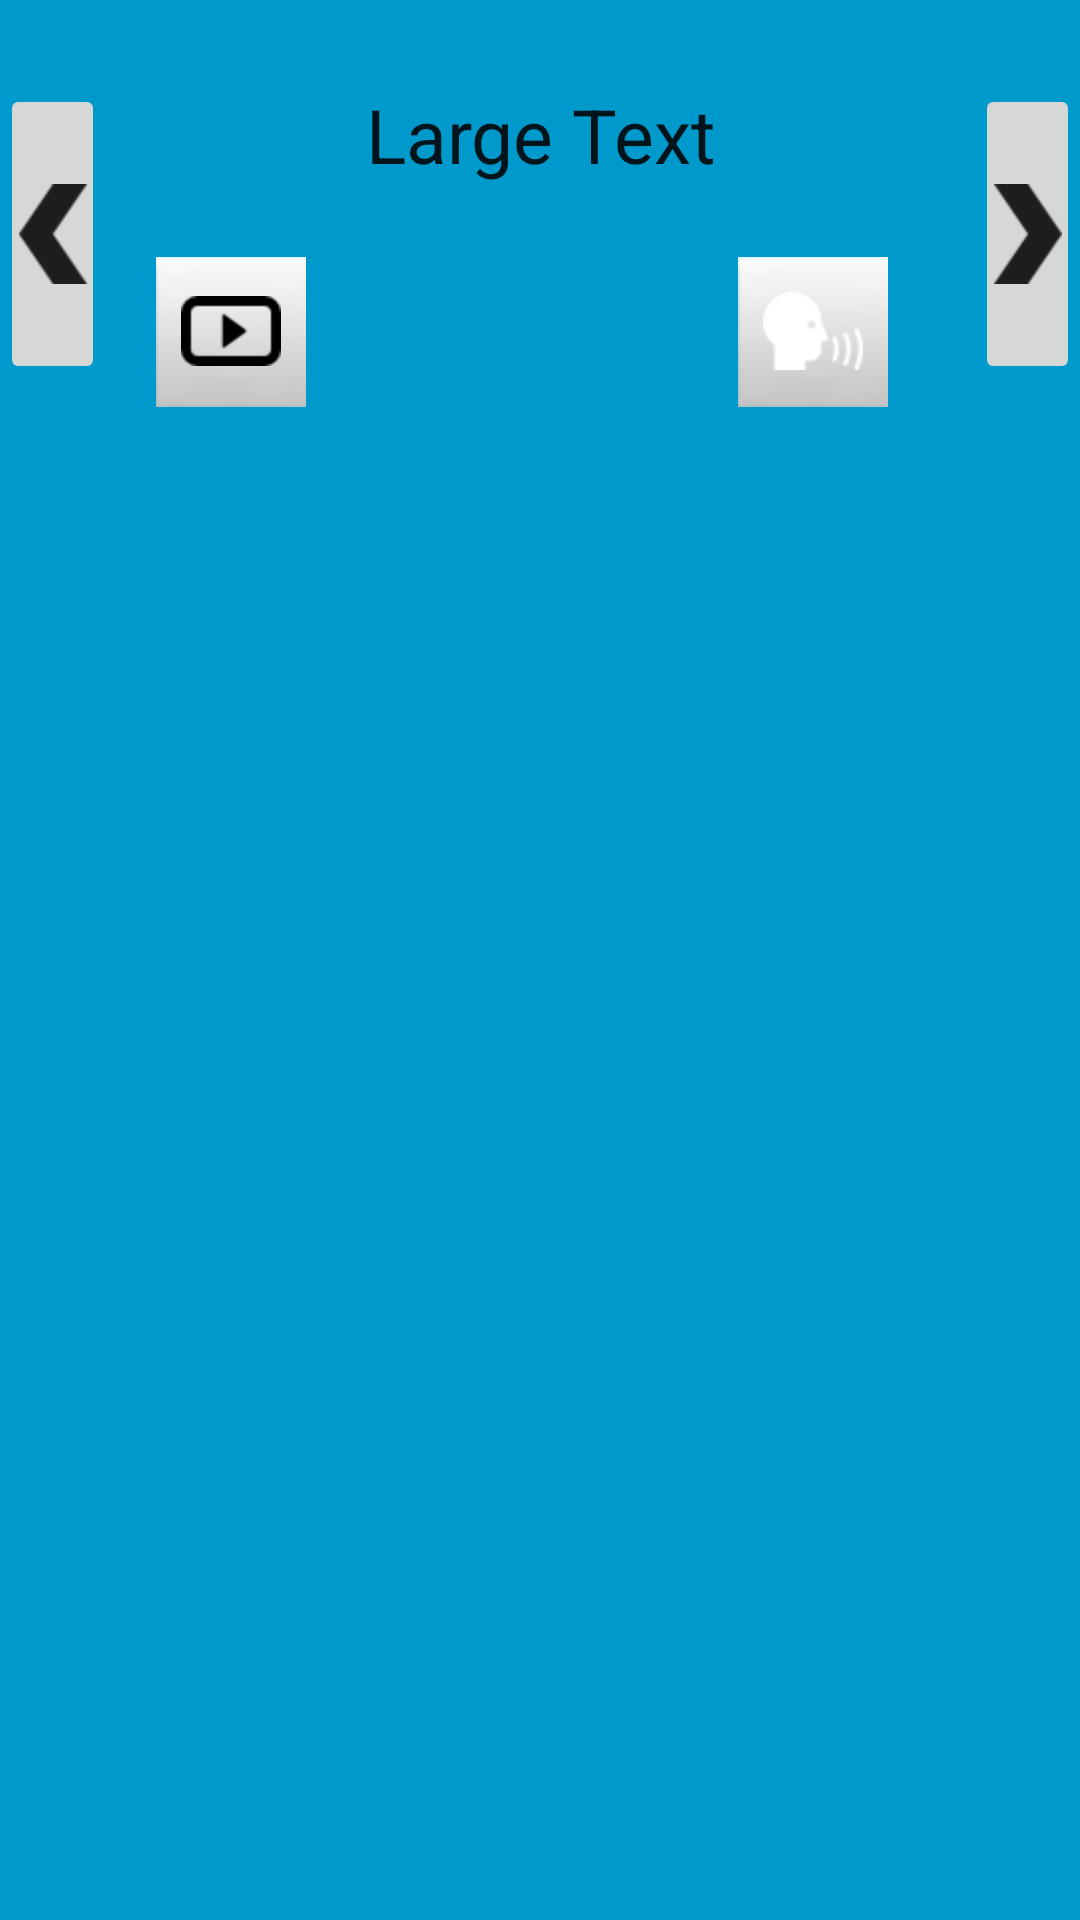

Where icons sit on this 1080 × 1920 app screen, as (x1, y1, x2, y2):
next: (987, 102, 1068, 366)
play: (156, 257, 306, 407)
previous: (12, 102, 93, 366)
speech: (738, 257, 888, 407)
